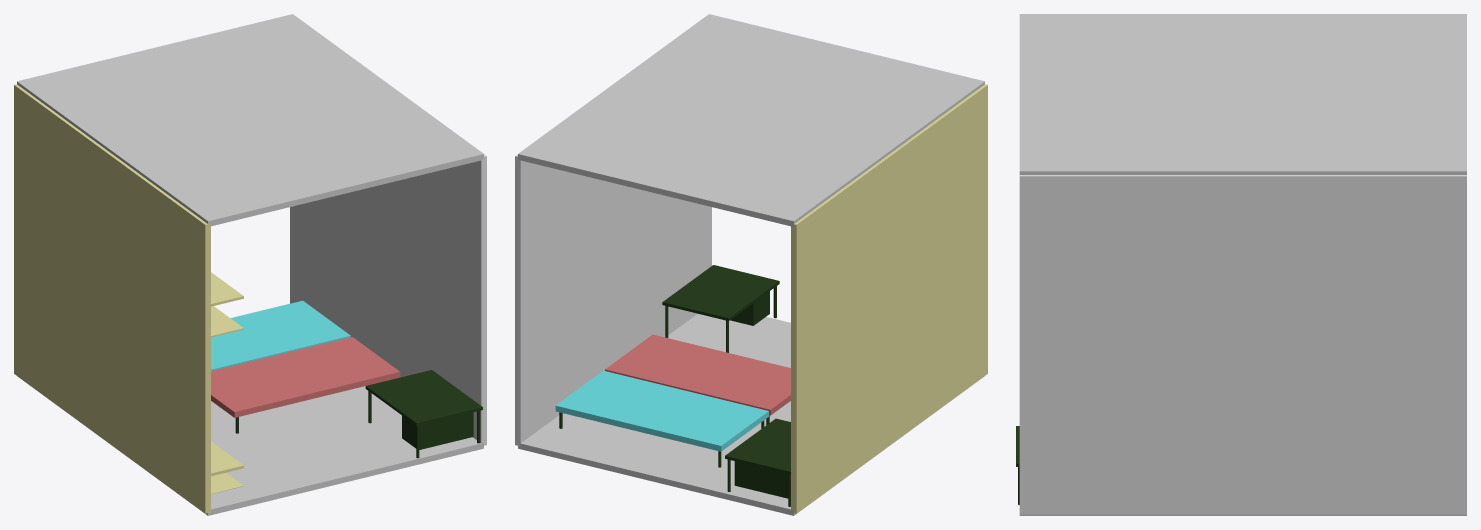
Rendered from wall.dae.
3 views of the same model, side by side, from view 1: azimuth 30°, elevation 25°; view 2: azimuth 150°, elevation 25°; view 3: azimuth 270°, elevation 25° (orthographic). The views are drawn at different scales.
Parts seen in each view (by area): view 1: cupwalll, roof, bedwall, Base, Bedred, table_001, bedblue, shelf; view 2: cupwalll, roof, bedwall, Base, bedblue, Bedred, table_001, table; view 3: bedwall, roof, Base.
Part boxes in pixels (x1,y1,x2,y2): cupwalll: (14,84,210,513); roof: (17,14,483,226); bedwall: (290,154,486,445); Base: (20,303,483,515); Bedred: (211,337,400,433); table_001: (365,370,482,458); bedblue: (211,300,350,371); shelf: (211,272,243,494); cupwalll: (791,84,987,513); roof: (518,14,984,226); bedwall: (515,154,711,446); Base: (518,314,981,515); bedblue: (555,370,768,467); Bedred: (605,334,790,424); table_001: (662,265,779,352); table: (725,418,790,506); bedwall: (1019,175,1466,514); roof: (1019,14,1466,174); Base: (1019,514,1466,515).
Bounding box in the file's own units: 10.2 × 12.1 × 10.2.
